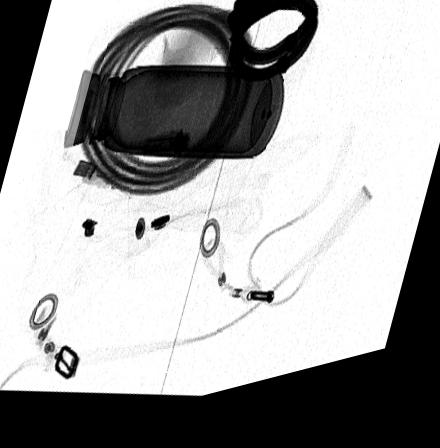HandCuffs: (225, 0, 317, 95)
